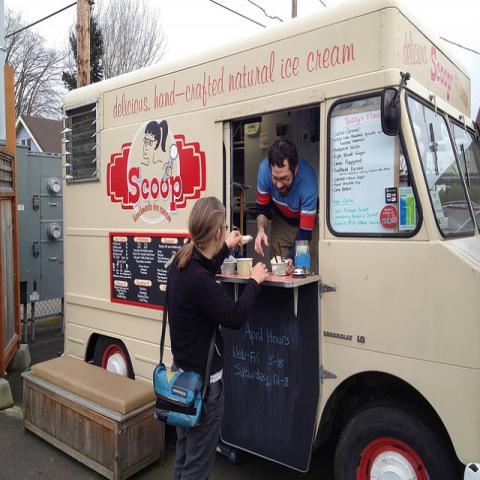truck: (62, 0, 479, 475)
